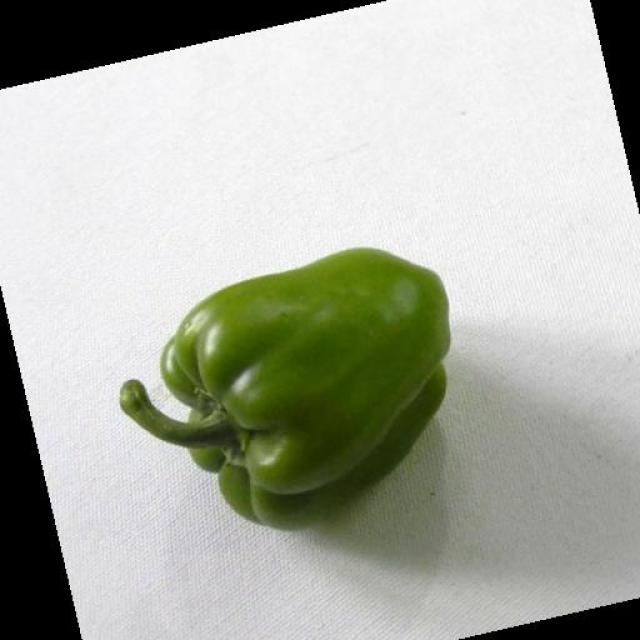Fresh_Capsicum: (161, 250, 450, 492)
